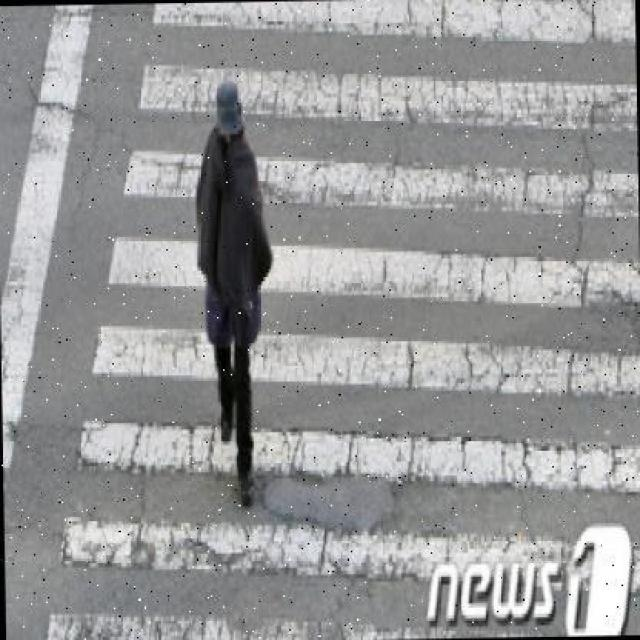Person: (198, 82, 268, 503)
